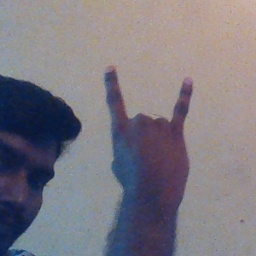V: (98, 62, 205, 196)
